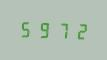five: (18, 18, 34, 39)
nine: (35, 19, 51, 39)
seven: (52, 19, 68, 40)
two: (69, 20, 85, 41)
